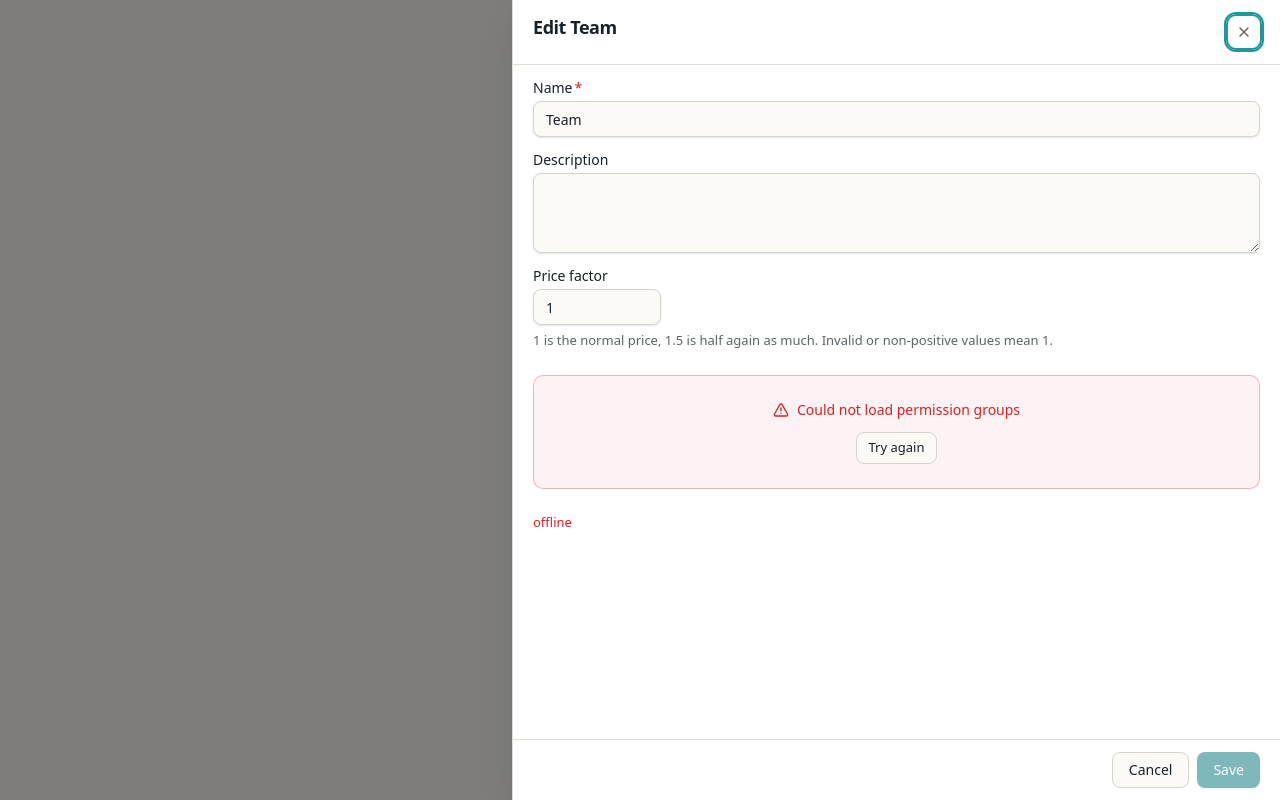
Test case: GroupSheet › refuses to save over assignments it could not read, and offers a retry
Expected: the message "Could not load permission groups Try again" is shown, x1=533 y1=374 x2=1260 y2=488
Expected: the button "Save" is disabled, x1=1197 y1=752 x2=1260 y2=788
Click the button "Try again": coordinates (896, 448) x1=856 y1=432 x2=937 y2=464
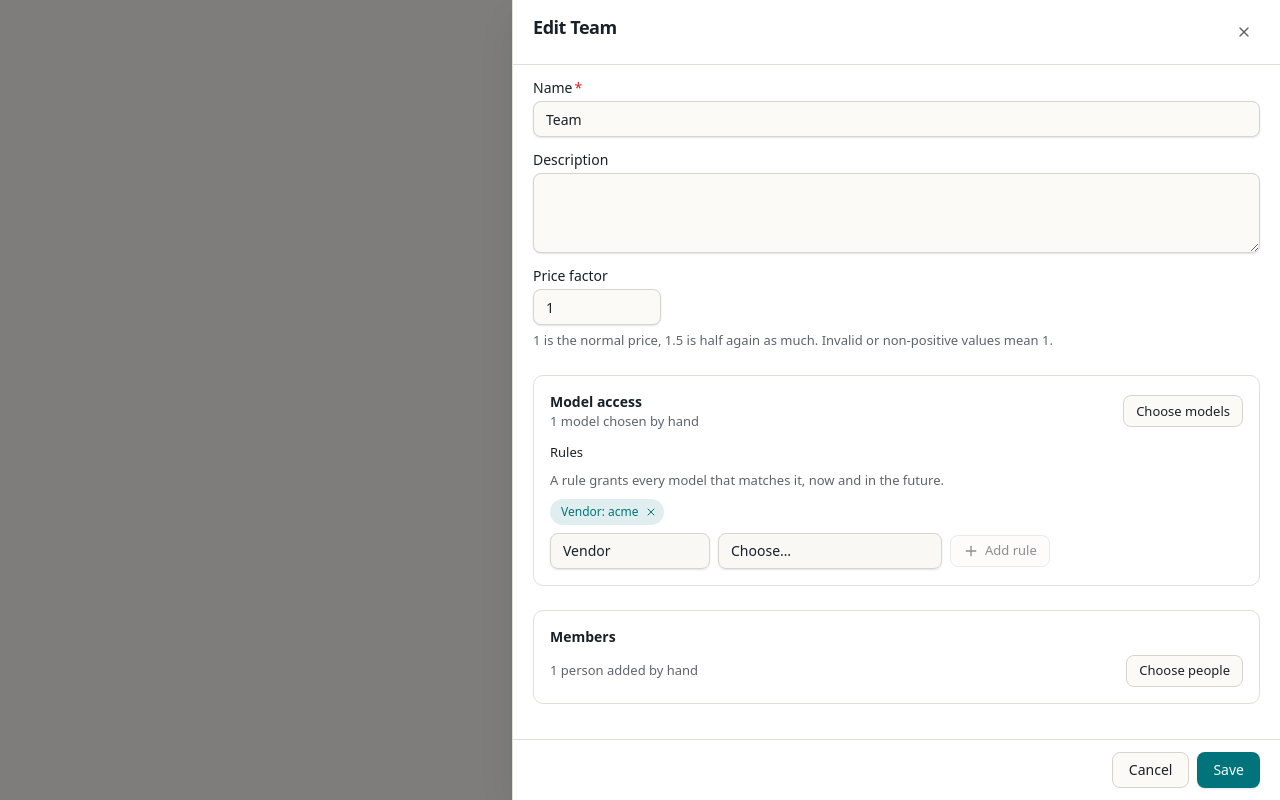
Expected: the button "Save" is enabled, x1=1197 y1=752 x2=1260 y2=788
Expected: no messages are shown
